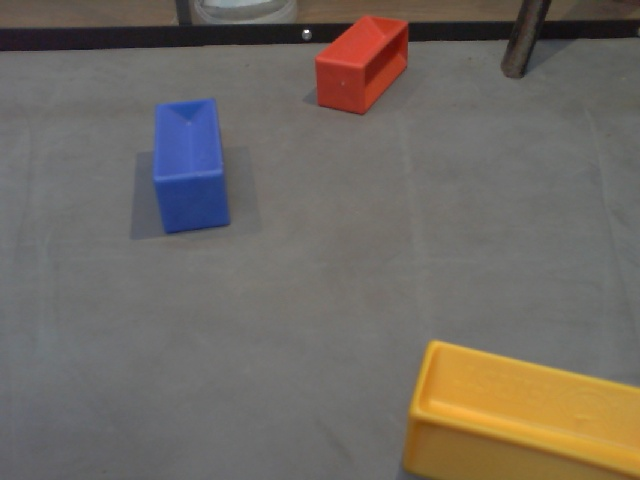BlueSample: (148, 94, 235, 238)
RedSample: (313, 11, 411, 115)
YellowSample: (399, 335, 639, 480)
